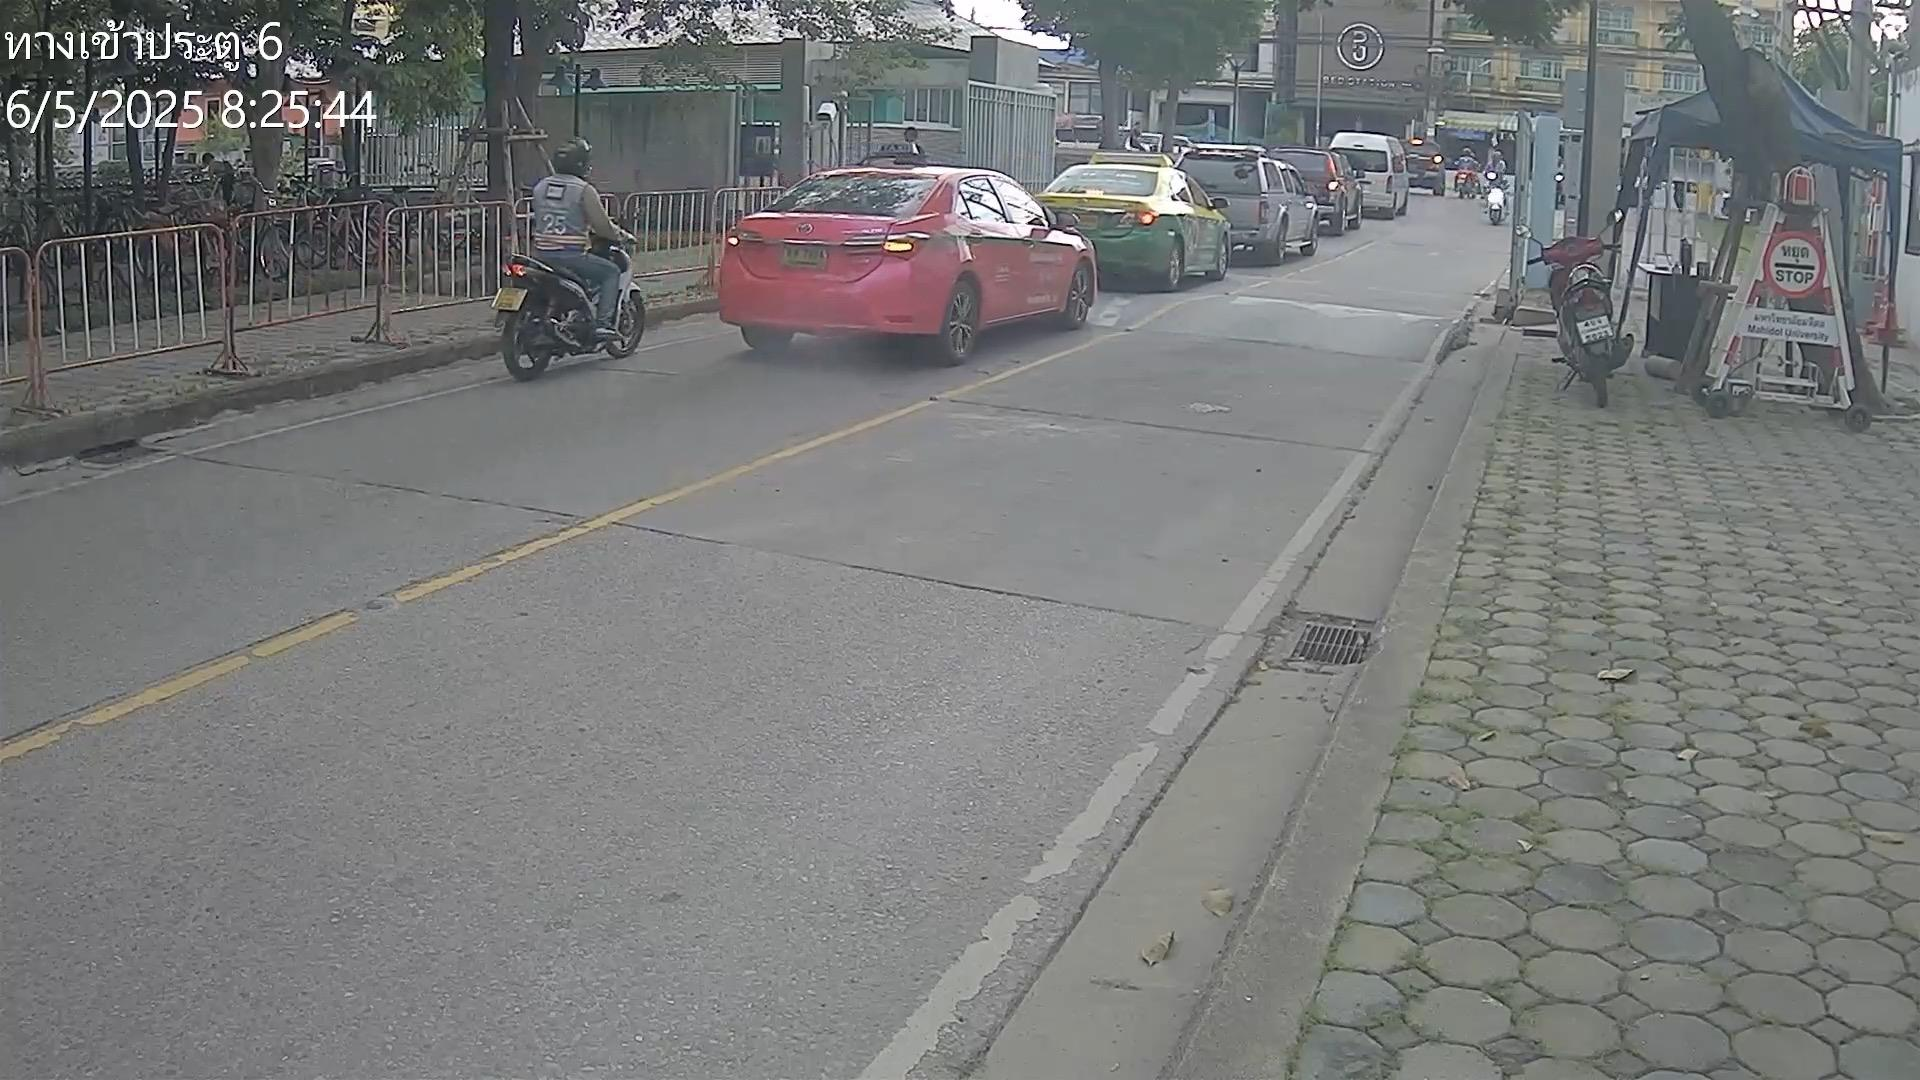With-Helmet: (551, 135, 593, 179)
